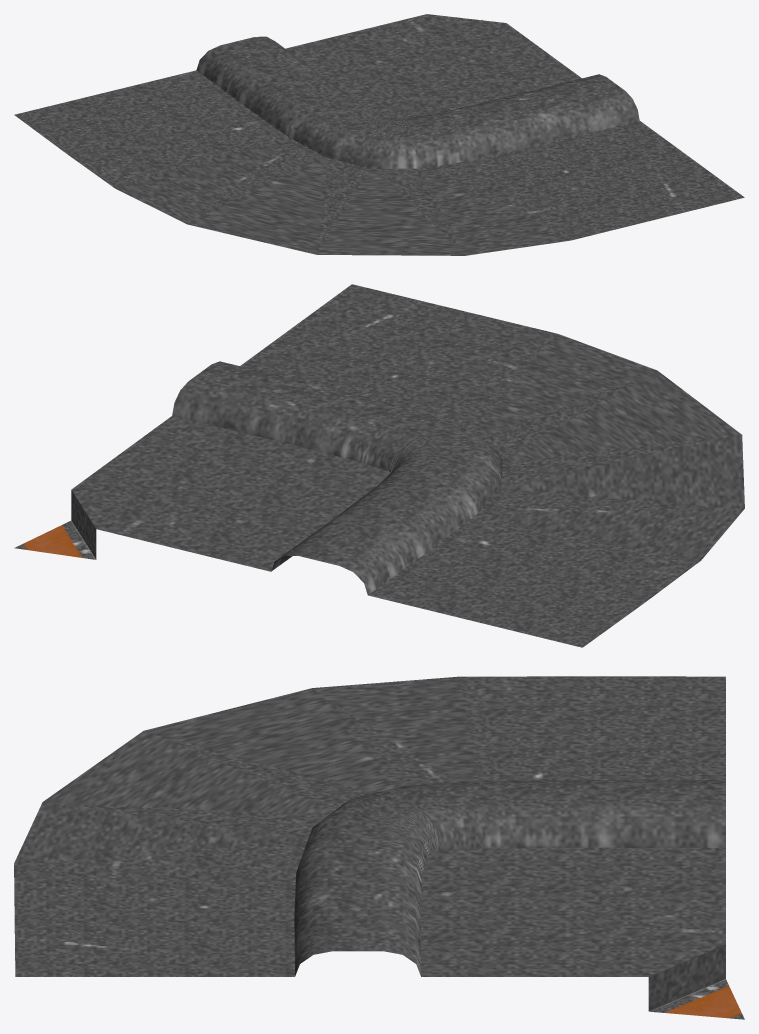
Rendered from FloorPanelCorner.fbx.
3 renders of one model, top to bottom at view 1: azimuth 30°, elevation 25°; view 2: azimuth 150°, elevation 25°; view 3: azimuth 270°, elevation 25°, orthographic. The views are drawn at different scales.
Visible parts, largest first — view 1: Corner1.001; view 2: Corner1.001; view 3: Corner1.001.
Part boxes in pixels (x1,y1,x2,y2): Corner1.001: [14, 14, 744, 255]; Corner1.001: [14, 284, 744, 647]; Corner1.001: [14, 676, 744, 1019].
Size of the model in its own units: 128 by 11.69 by 129.
